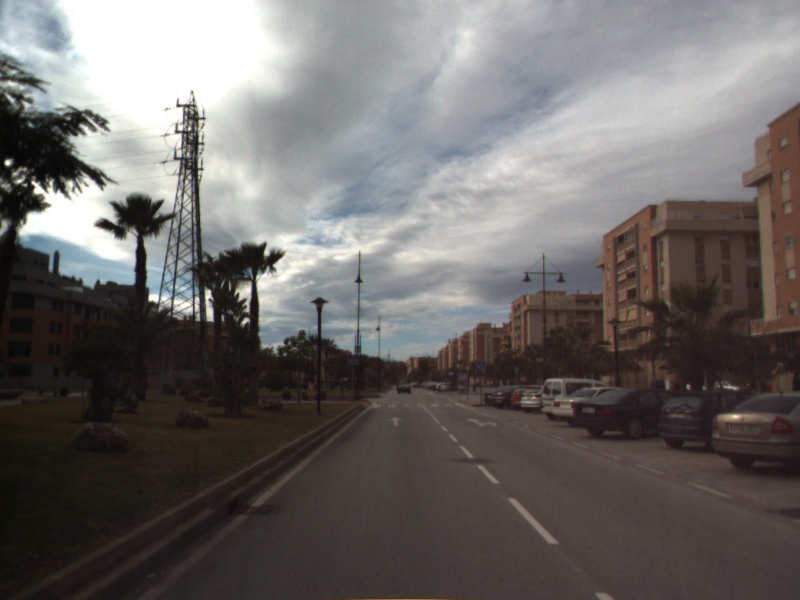STRAIGHT: (386, 414, 405, 428)
STRAIGHT_RIGHT: (463, 416, 498, 429)
